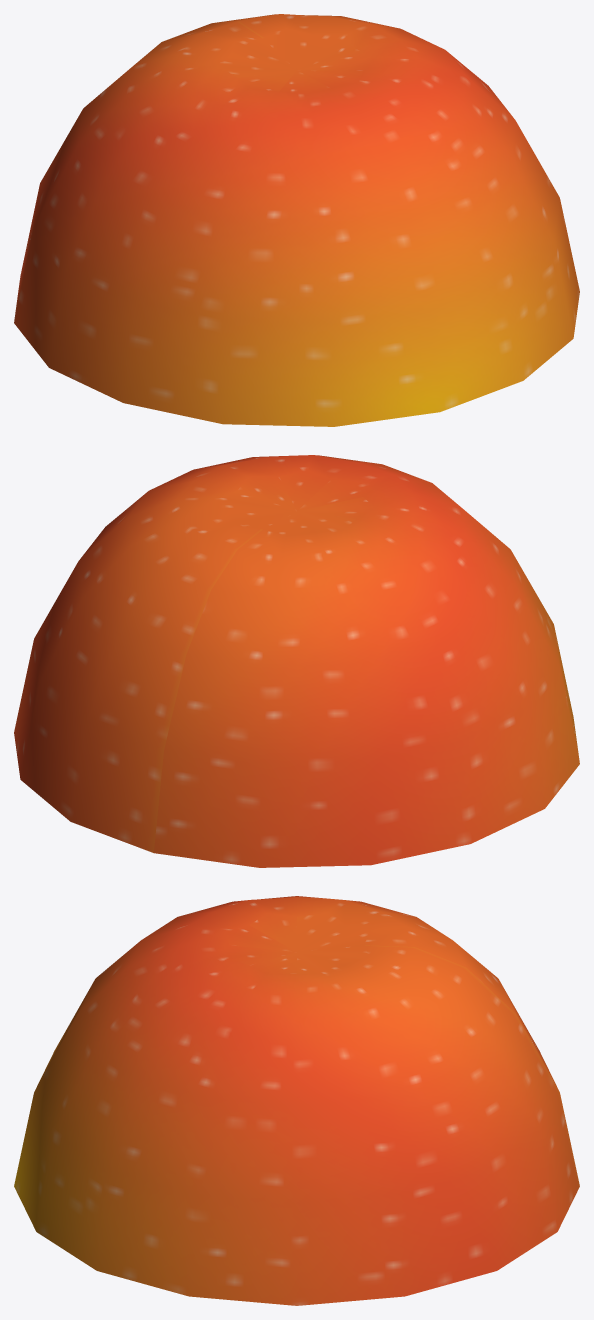
Rendered from orangeS.FBX.
The picture shows the model from 3 angles, top to bottom: view 1: azimuth 30°, elevation 25°; view 2: azimuth 150°, elevation 25°; view 3: azimuth 270°, elevation 25°; orthographic projection.
Parts seen in each view (by area): view 1: Orange001; view 2: Orange001; view 3: Orange001.
Part boxes in pixels (bbox=[...]): Orange001: bbox=[14, 14, 579, 426]; Orange001: bbox=[14, 455, 579, 867]; Orange001: bbox=[14, 896, 579, 1305].
Size of the model in its own units: 9.09 by 4.3 by 9.09.
